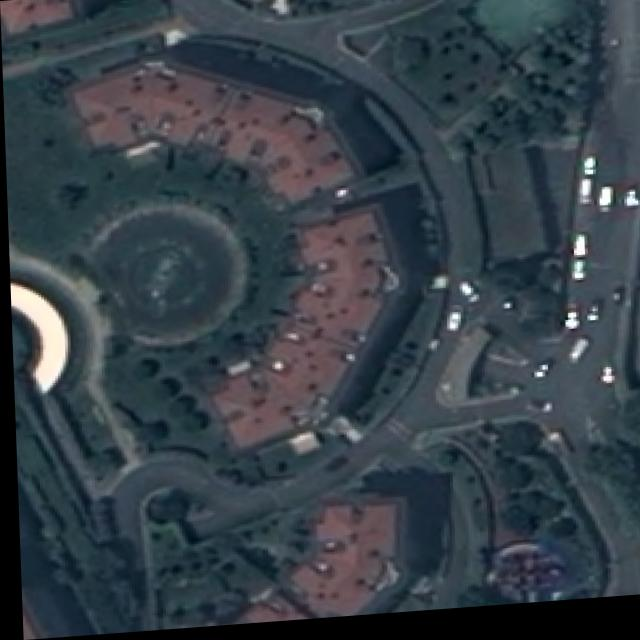Batiment: (210, 215, 386, 451), (72, 68, 352, 206), (286, 509, 393, 618), (469, 157, 559, 270), (2, 0, 72, 33), (228, 599, 304, 628)
